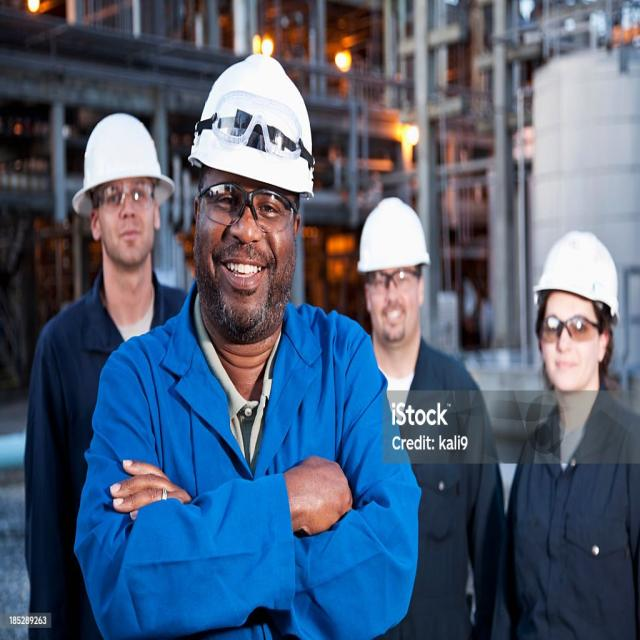goggles: (198, 88, 312, 164), (191, 180, 300, 236), (534, 310, 610, 346), (82, 186, 160, 212), (363, 263, 422, 296)
